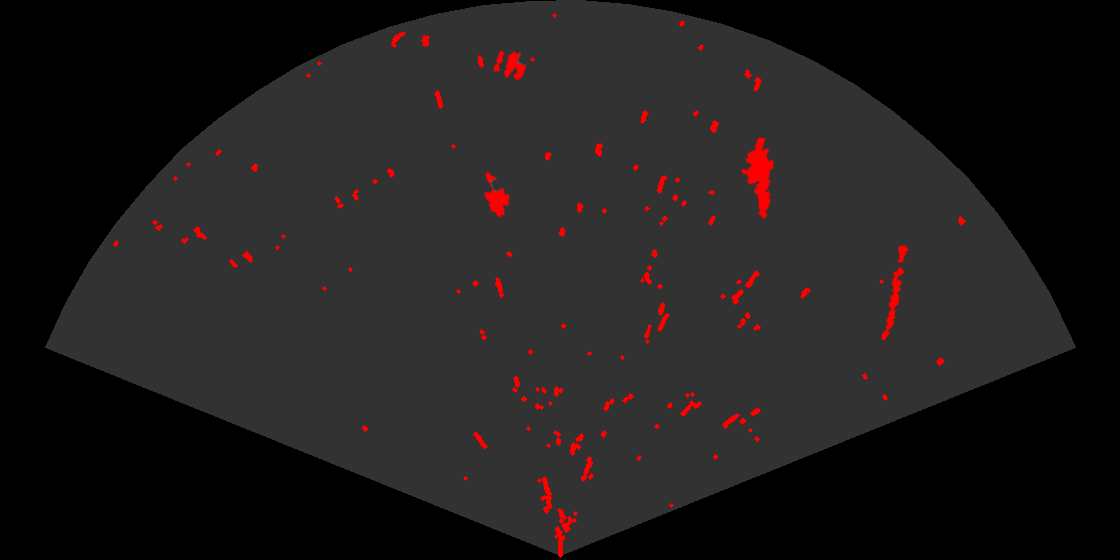AUV: (483, 170, 511, 219)
ball: (492, 49, 528, 82)
chain: (880, 243, 910, 342)
frogman: (739, 138, 776, 221)
